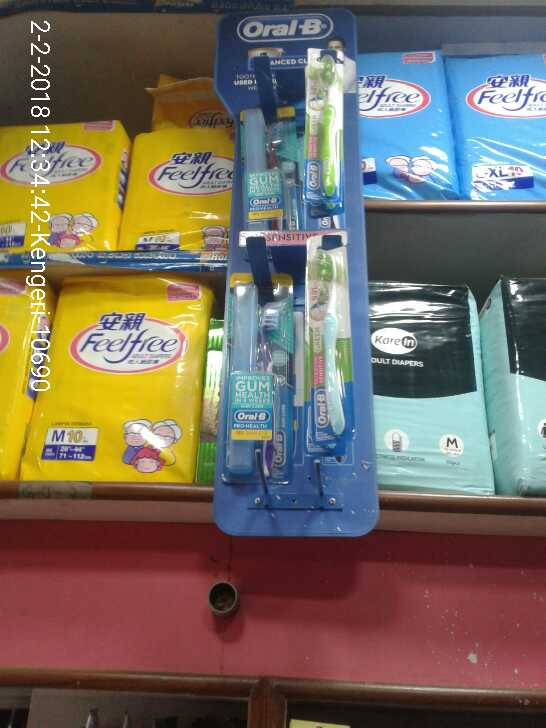oralb: (307, 244, 352, 443), (302, 54, 345, 198)
